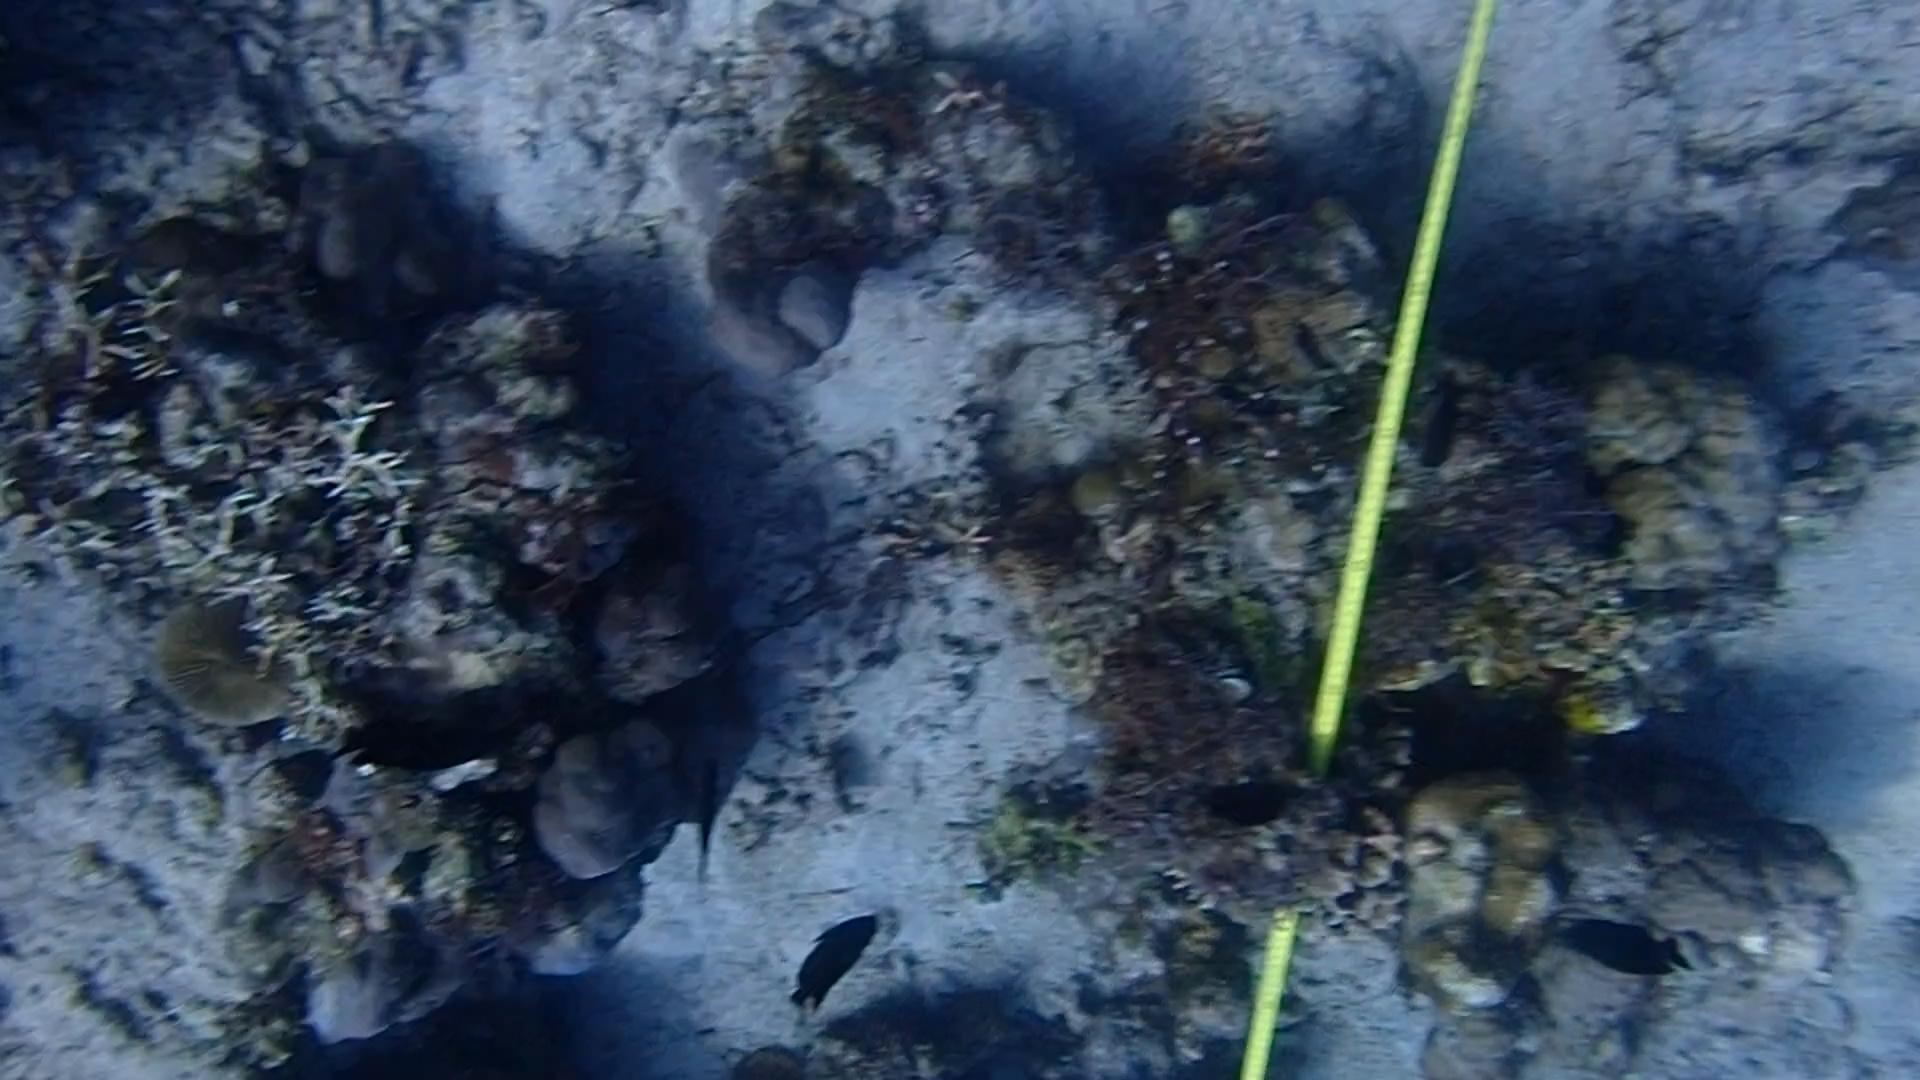Dark Fish: (765, 885, 899, 1027), (1545, 891, 1683, 1000), (1171, 758, 1315, 849), (332, 705, 506, 779), (1408, 355, 1493, 487), (675, 750, 741, 897)
